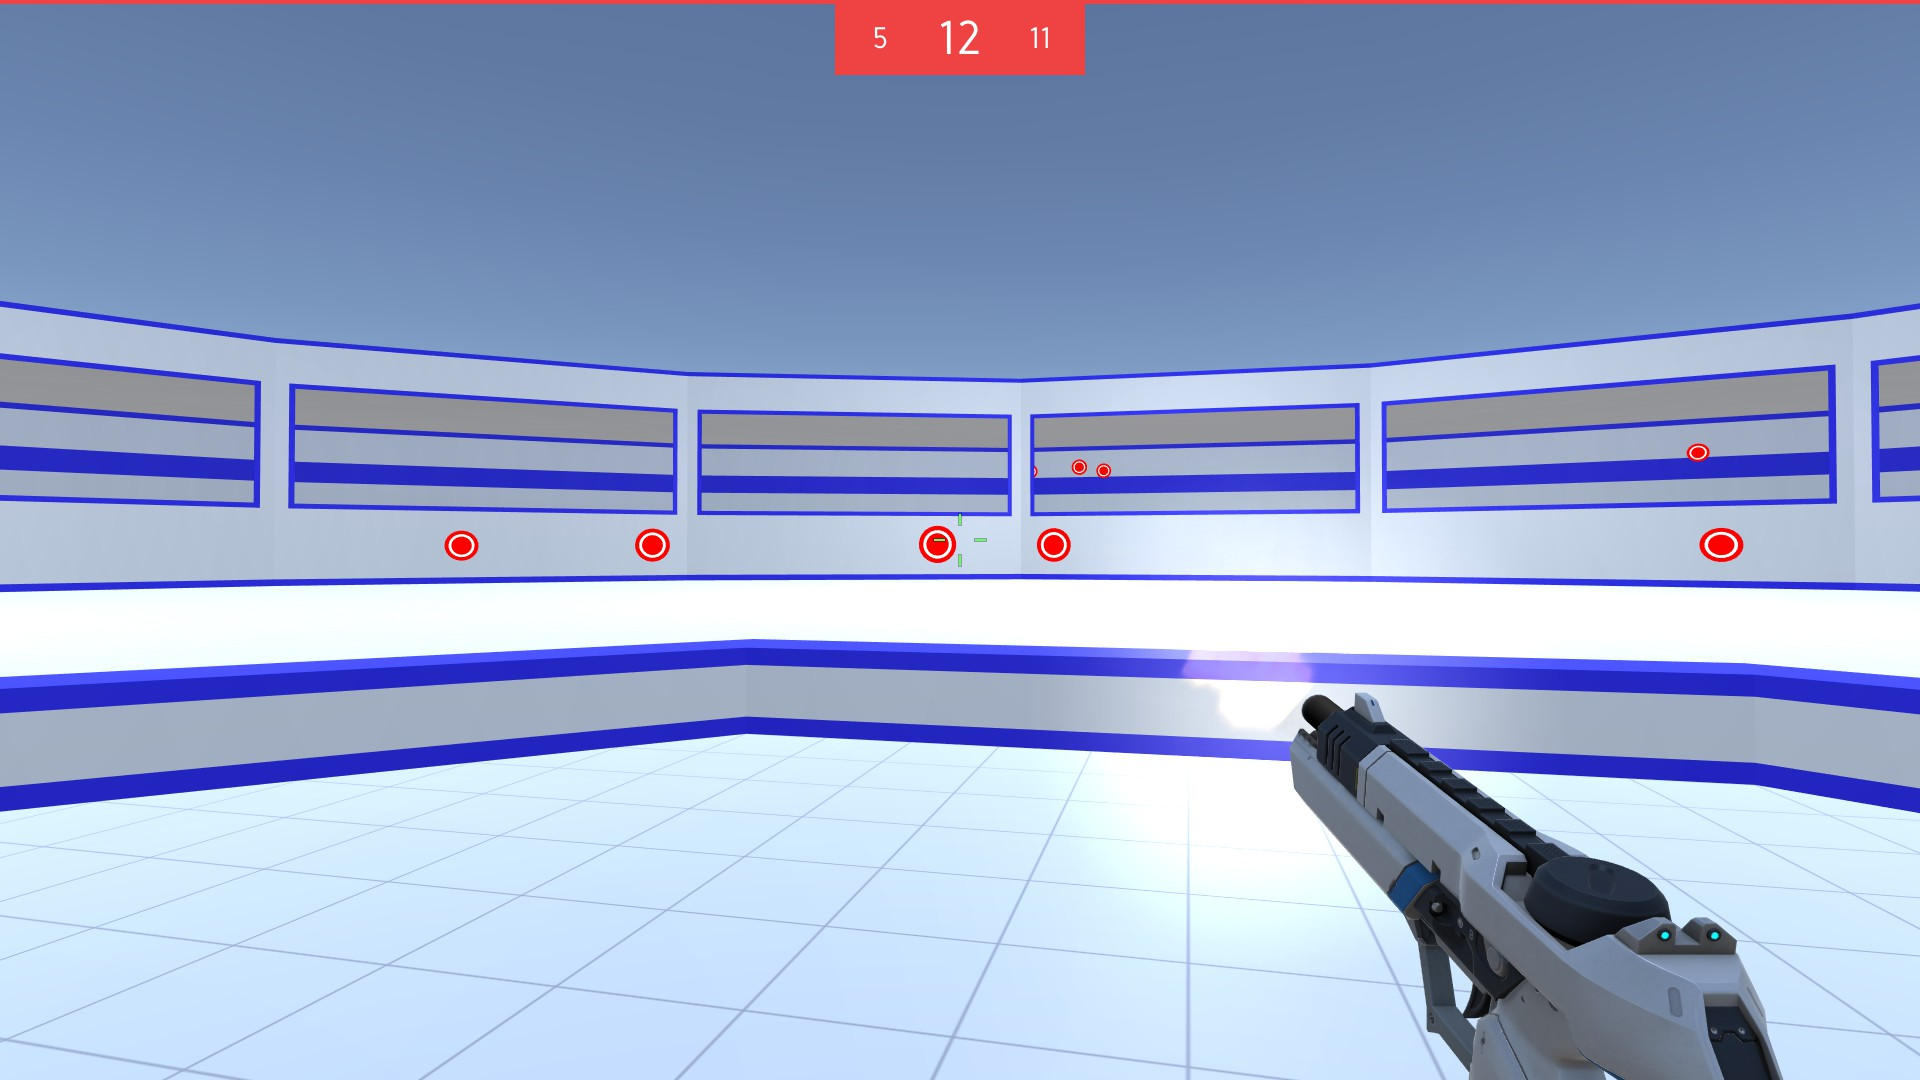target: (1700, 525, 1745, 564), (916, 525, 960, 564), (634, 527, 676, 563), (1035, 527, 1072, 564), (443, 527, 479, 560), (1684, 438, 1710, 465), (1097, 462, 1112, 477), (1073, 459, 1088, 473), (1031, 464, 1040, 477)
